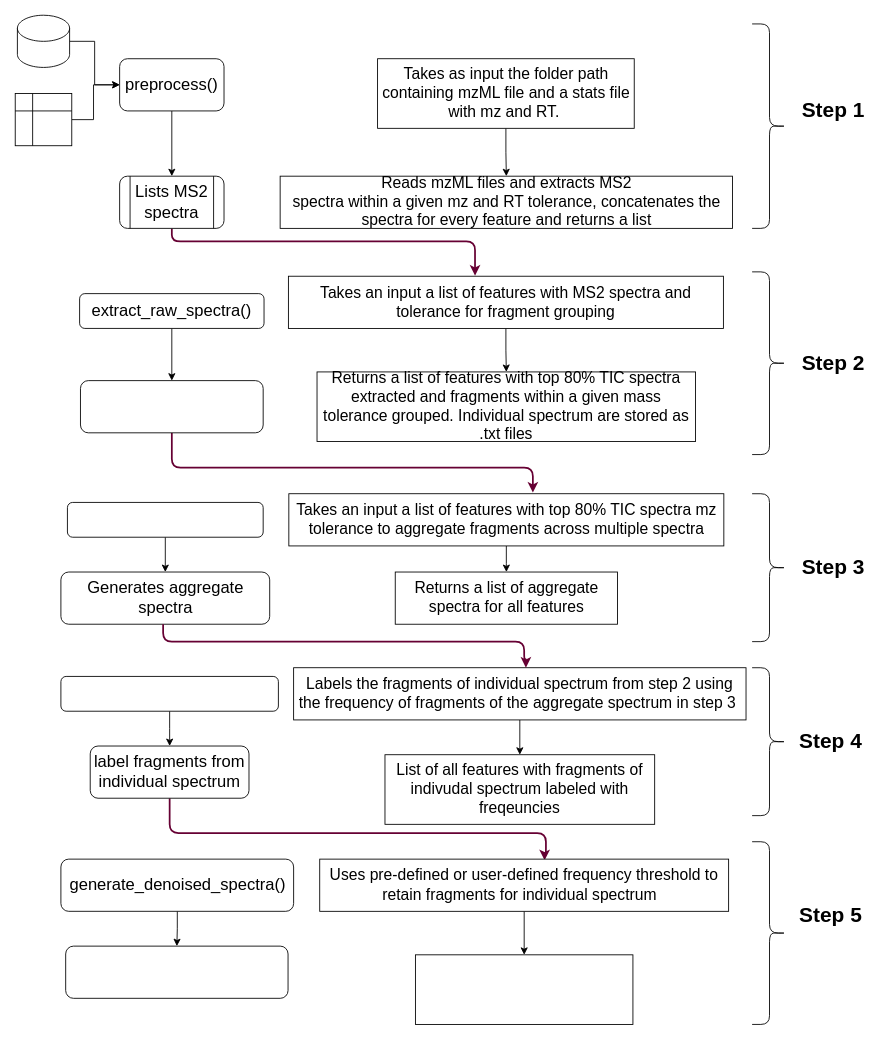
Some shapes in this 892 by 1040 pixel diagram are drawn without their labels. Each missing label, with the centre of its shape:
"call_aggregate_spectra()" belongs at point (165, 519).
"Denoised spectra for individual features are stored as mzML files" belongs at point (524, 989).
"Denoises spectra using fragment frequency cutoff" belongs at point (176, 971).
"label_individual_spectraum()" belongs at point (169, 693).
"List of only top 80% TIC MS2 spectra" belongs at point (171, 406).
"mzML" belongs at point (43, 40).
"Stats" belongs at point (43, 119).
